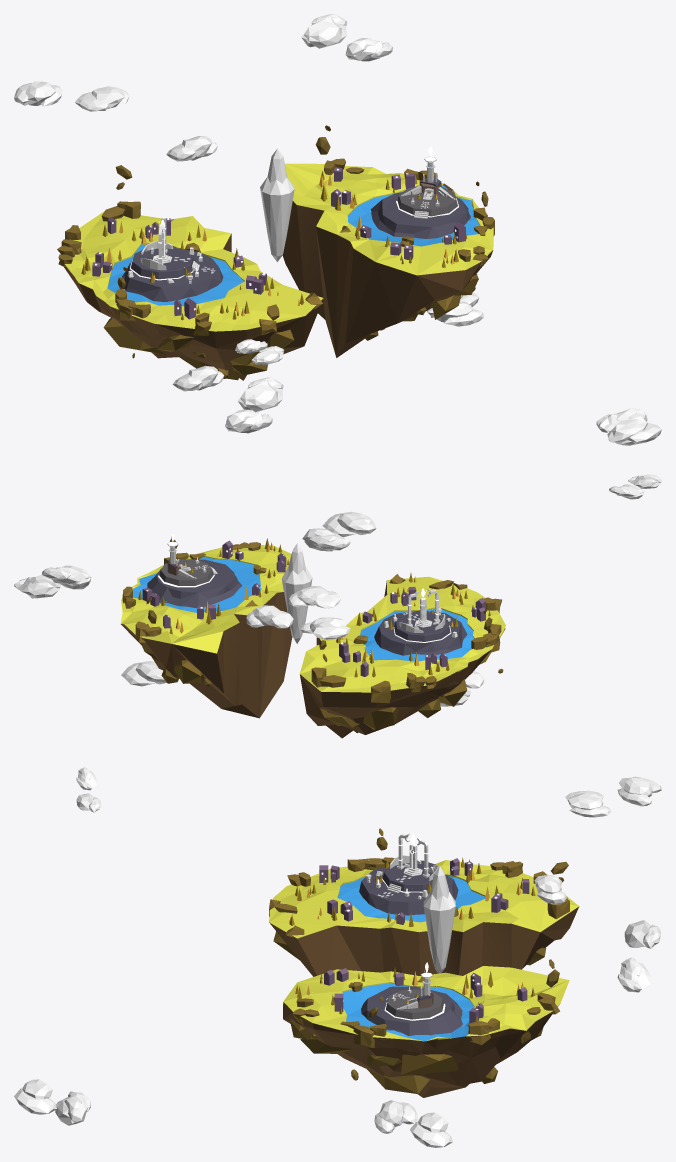
The model's file is Islands.glb.
The picture shows the model from 3 angles, top to bottom: view 1: azimuth 30°, elevation 25°; view 2: azimuth 150°, elevation 25°; view 3: azimuth 270°, elevation 25°; orthographic projection. The views are drawn at different scales.
Visible parts, largest first — view 1: Cylinder.029, Cylinder.087, Cylinder.022, TourCentrale, SocleTour01, SOL, Nuage02.012, Nuage02.010, SOL.003, Nuage01.000, Nuage05.025, Nuage05.026 (+7 smaller); view 2: Cylinder.029, Cylinder.087, Cylinder.022, SocleTour01, TourCentrale, Nuage01.000, SOL, SOL.003, Nuage05.026, Nuage02.012, Nuage05.027, Nuage01.008 (+6 smaller); view 3: Cylinder.087, Cylinder.029, Cylinder.022, TourCentrale, SocleTour01, SOL.003, Nuage01.000, Nuage01.008, Icosphere.107, Nuage05.028, Nuage05.025, SOL (+6 smaller).
Boxes of the visible parts, <box> form: Cylinder.029: <box>282,163,493,357</box>; Cylinder.087: <box>64,211,323,380</box>; Cylinder.022: <box>371,192,470,238</box>; TourCentrale: <box>260,148,294,262</box>; SocleTour01: <box>122,248,223,301</box>; SOL: <box>131,247,194,279</box>; Nuage02.012: <box>301,14,347,48</box>; Nuage02.010: <box>238,377,283,412</box>; SOL.003: <box>397,186,457,216</box>; Nuage01.000: <box>607,419,661,445</box>; Nuage05.025: <box>14,81,61,106</box>; Nuage05.026: <box>75,86,129,111</box>; Cylinder.029: <box>120,545,292,718</box>; Cylinder.087: <box>300,576,505,738</box>; Cylinder.022: <box>147,559,241,608</box>; SocleTour01: <box>374,610,467,655</box>; TourCentrale: <box>282,543,312,643</box>; Nuage01.000: <box>322,511,376,537</box>; SOL: <box>394,612,450,641</box>; SOL.003: <box>159,559,213,585</box>; Nuage05.026: <box>288,586,341,608</box>; Nuage02.012: <box>42,565,91,589</box>; Nuage05.027: <box>246,605,293,628</box>; Nuage01.008: <box>121,661,166,686</box>; Cylinder.087: <box>269,860,579,976</box>; Cylinder.029: <box>283,966,569,1097</box>; Cylinder.022: <box>361,986,462,1035</box>; TourCentrale: <box>423,866,455,973</box>; SocleTour01: <box>359,867,458,915</box>; SOL.003: <box>385,989,443,1019</box>; Nuage01.000: <box>14,1079,56,1114</box>; Nuage01.008: <box>410,1112,452,1147</box>; Icosphere.107: <box>401,1054,458,1074</box>; Nuage05.028: <box>374,1100,418,1133</box>; Nuage05.025: <box>617,776,661,806</box>; SOL: <box>382,860,437,891</box>.
Size of the model in its own units: 131 by 68.6 by 173.
